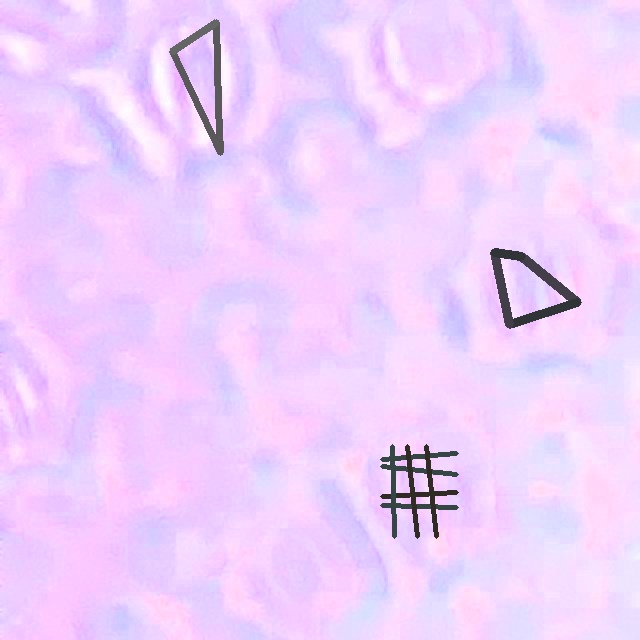open: (381, 444, 458, 538), (490, 252, 581, 328), (169, 20, 220, 154)
